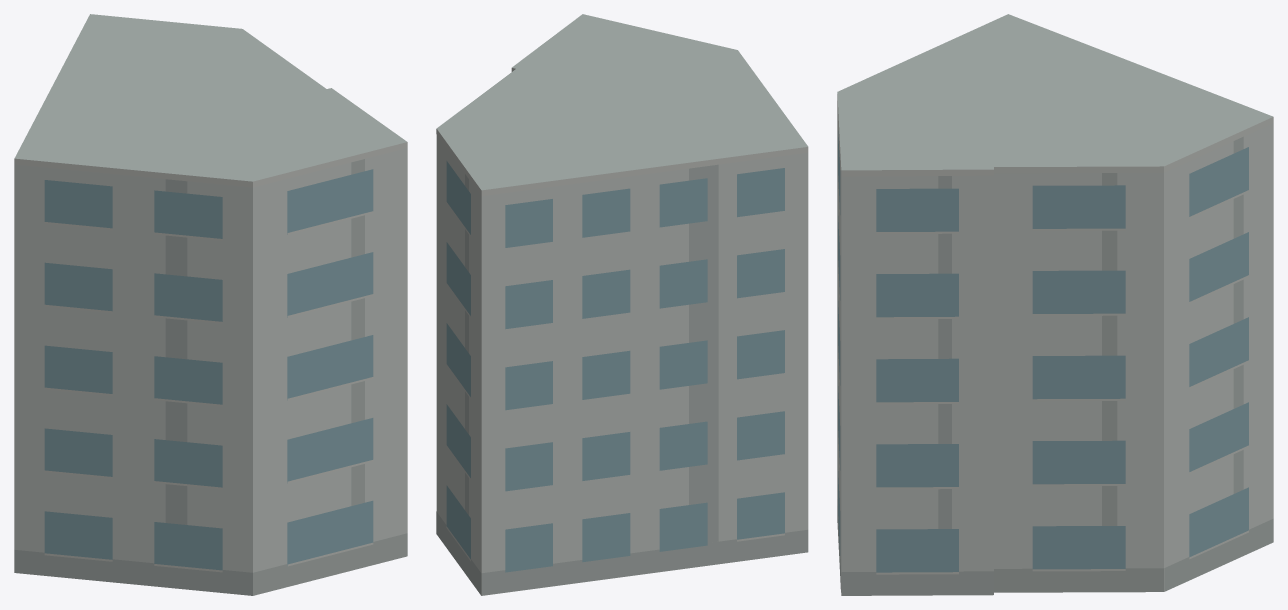
File: survey-upis-32803361.glb
3 renders of one model, left to right at view 1: azimuth 30°, elevation 25°; view 2: azimuth 150°, elevation 25°; view 3: azimuth 270°, elevation 25°, orthographic. The views are drawn at different scales.
Parts seen in each view (by area): view 1: survey-upis-32803361.tmp; view 2: survey-upis-32803361.tmp; view 3: survey-upis-32803361.tmp.
Part boxes in pixels (x1,y1,x2,y2): survey-upis-32803361.tmp: [14, 14, 407, 595]; survey-upis-32803361.tmp: [436, 14, 808, 595]; survey-upis-32803361.tmp: [837, 14, 1273, 595].
Size of the model in its own units: 13.17 by 16.7 by 15.53.
